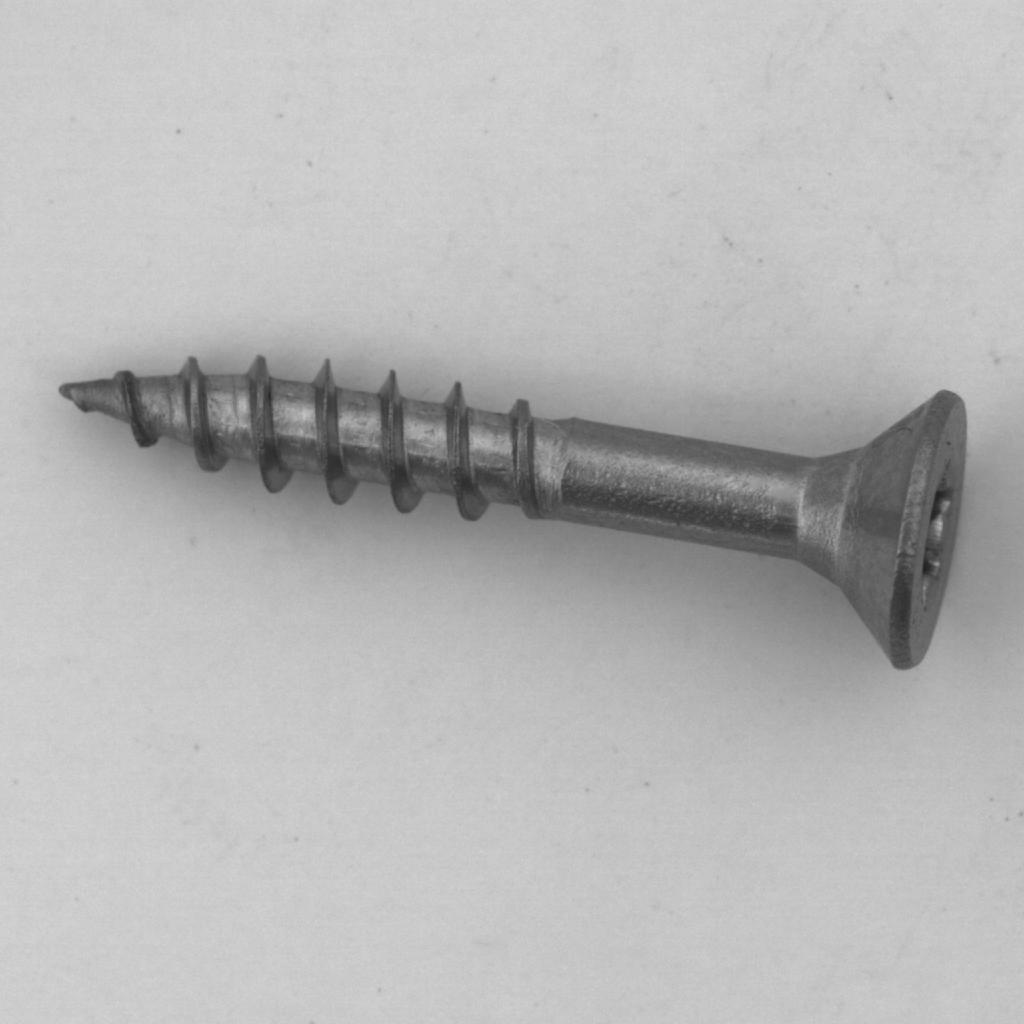good: (37, 334, 977, 703)
